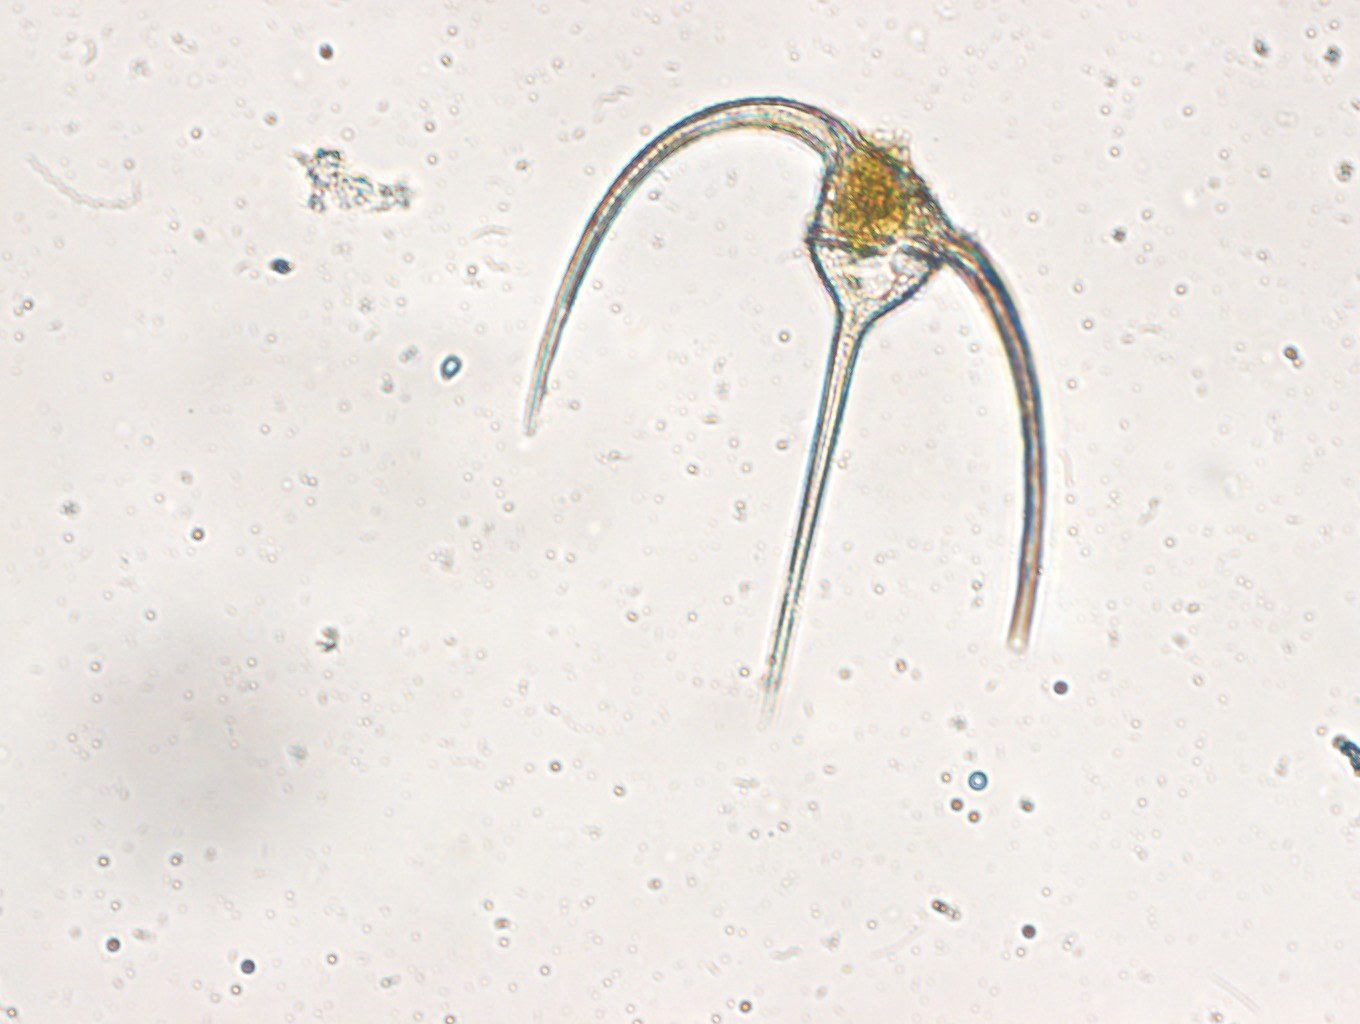ceratium trichoceros: (513, 82, 1048, 705)
